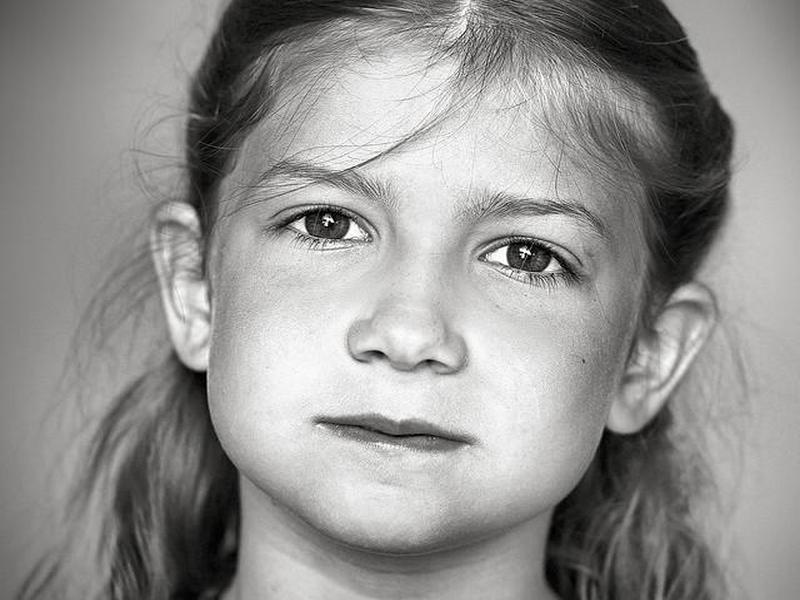person: (133, 1, 750, 600)
